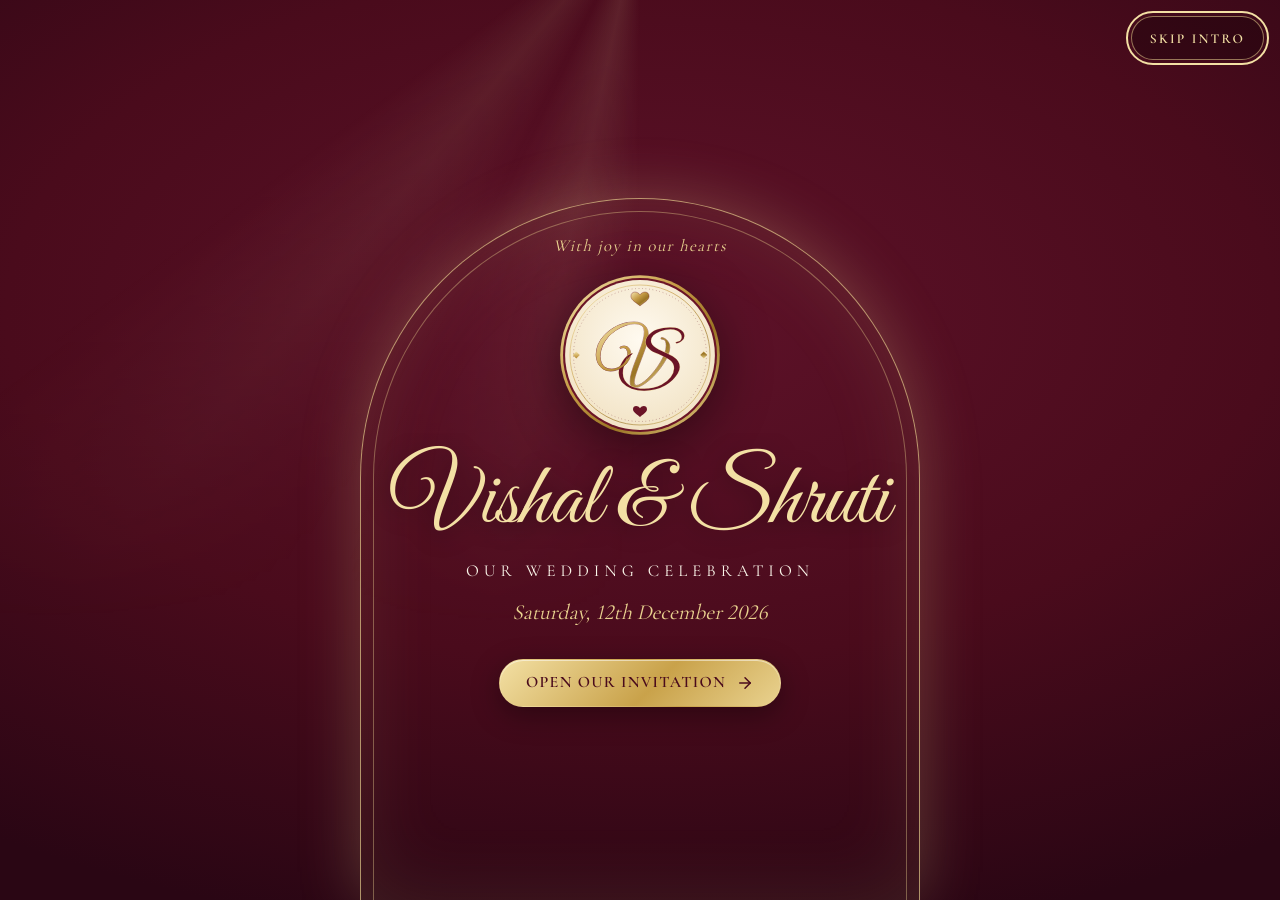
Test: music controls › has play/pause, then mute and volume controls once opened, and handles a missing file gracefully
Click the button "Skip intro" at (1197, 38), box [1131, 16, 1264, 60]
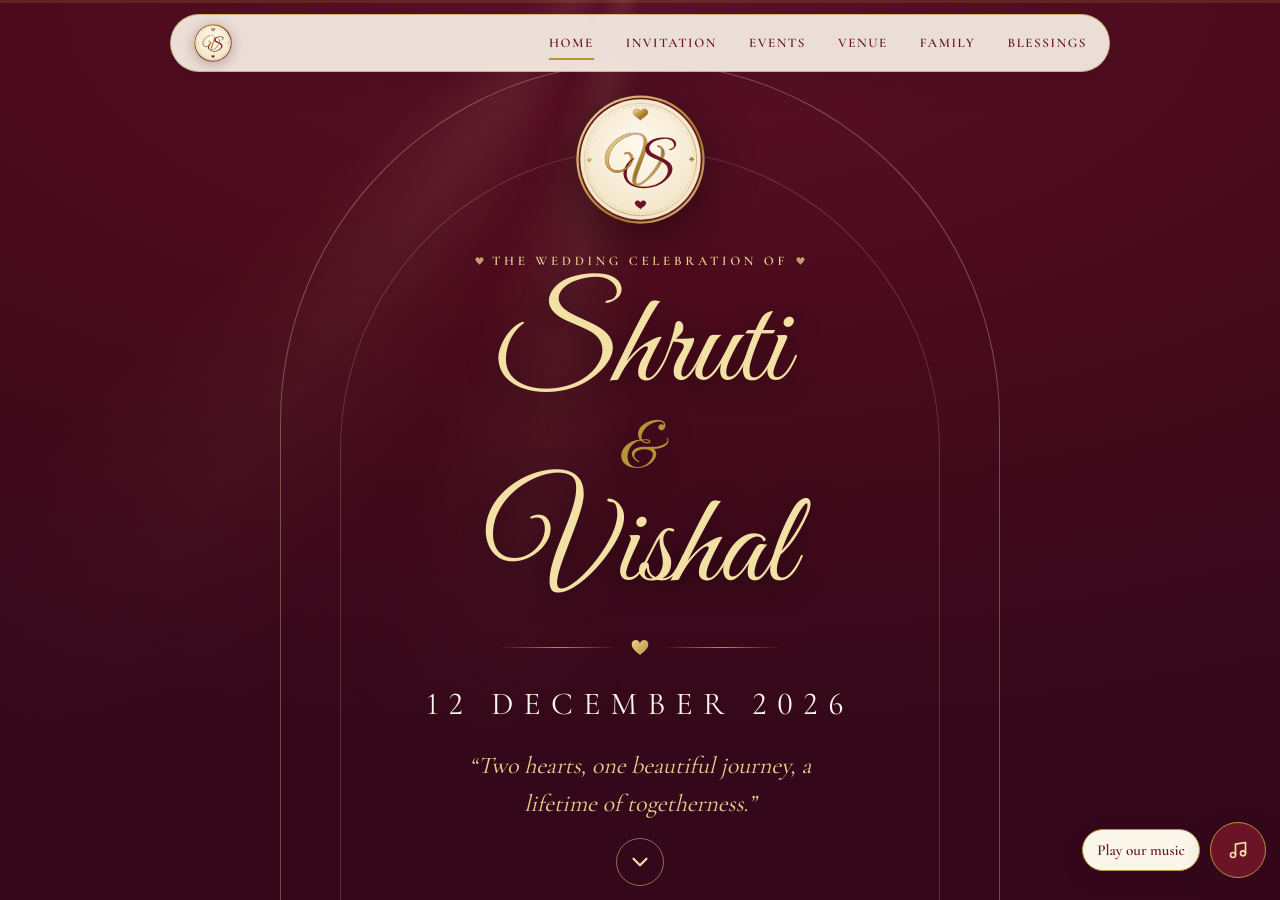
Click the button named "play music" at (1238, 850), box [1210, 822, 1266, 878]
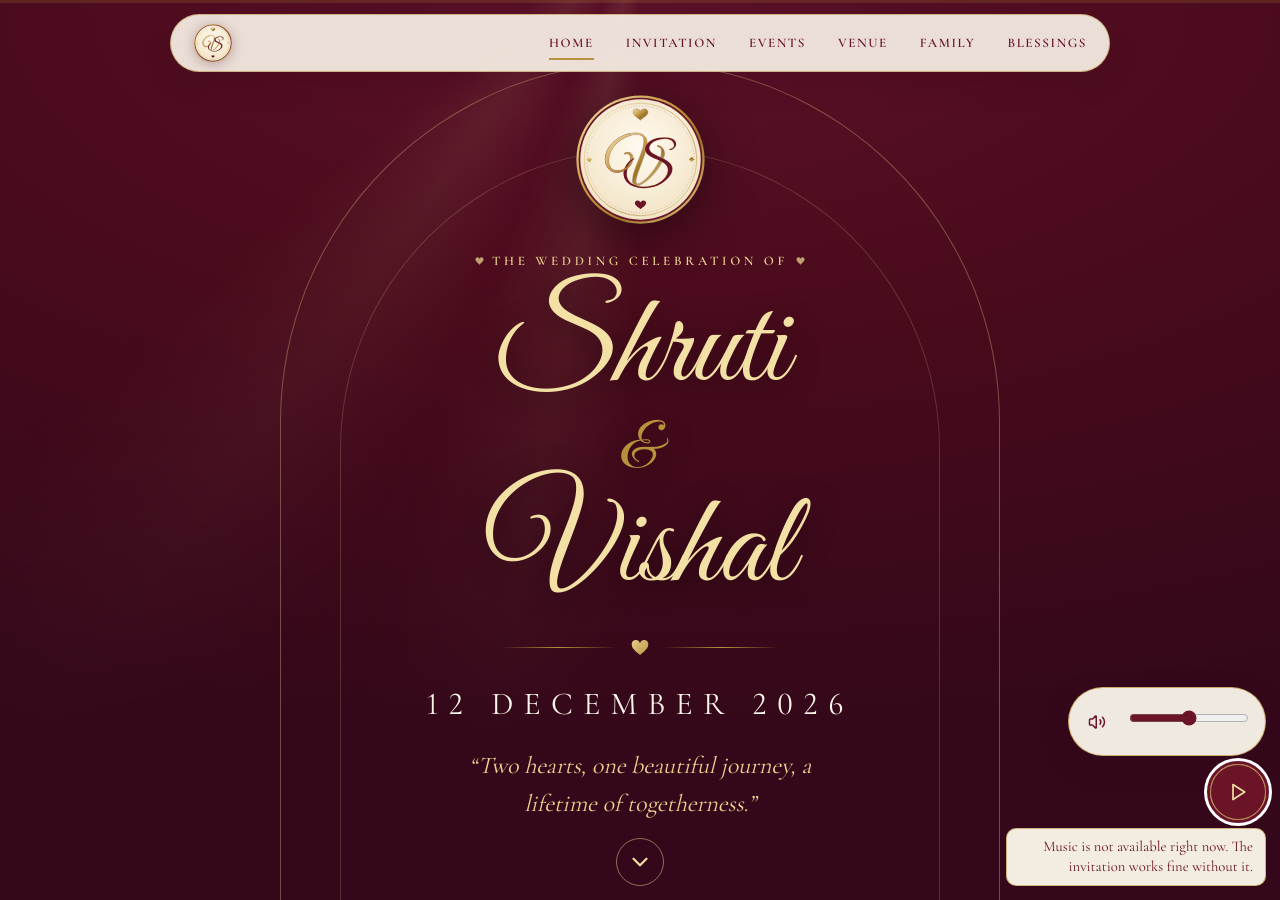
expect the text "Music is not available right now. The invitation works fine without it." is shown: met, box [1006, 828, 1266, 886]
expect the button named "mute music" is shown: met, box [1075, 700, 1119, 744]
expect the slider named "Music volume" is shown: met, box [1129, 696, 1249, 740]
